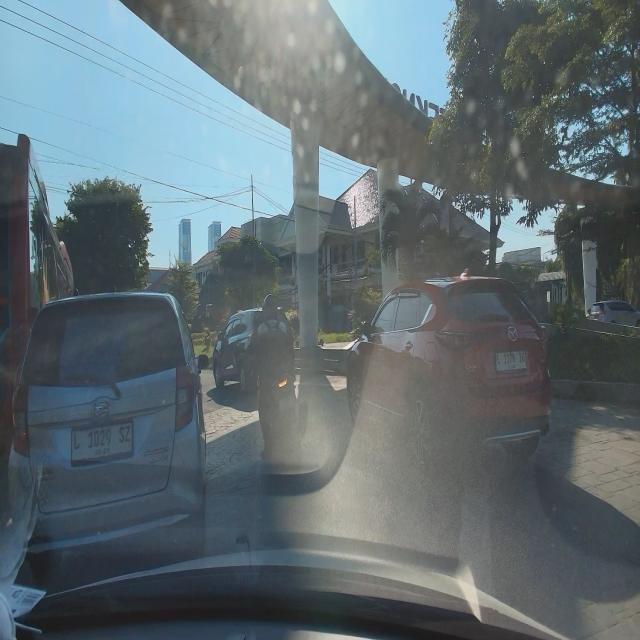bus: (0, 128, 82, 482)
car: (8, 290, 213, 550), (346, 262, 553, 482), (212, 301, 296, 398)
license-plate: (70, 422, 135, 466), (496, 351, 526, 370)
